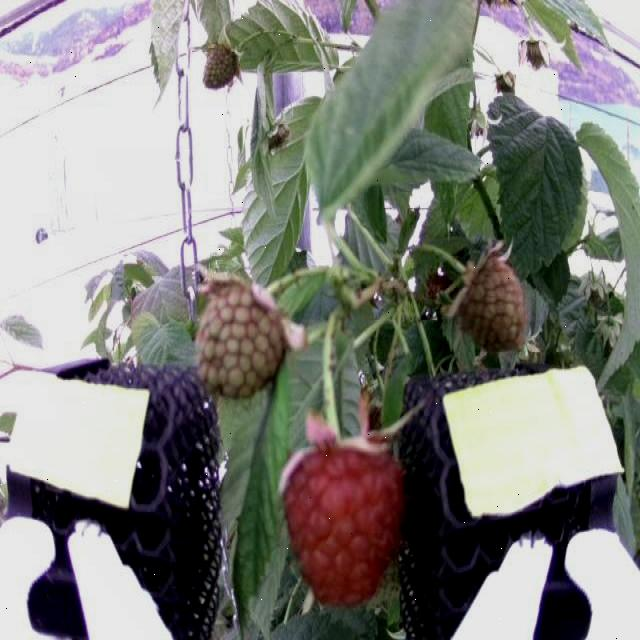Riped berries: (278, 429, 407, 608)
